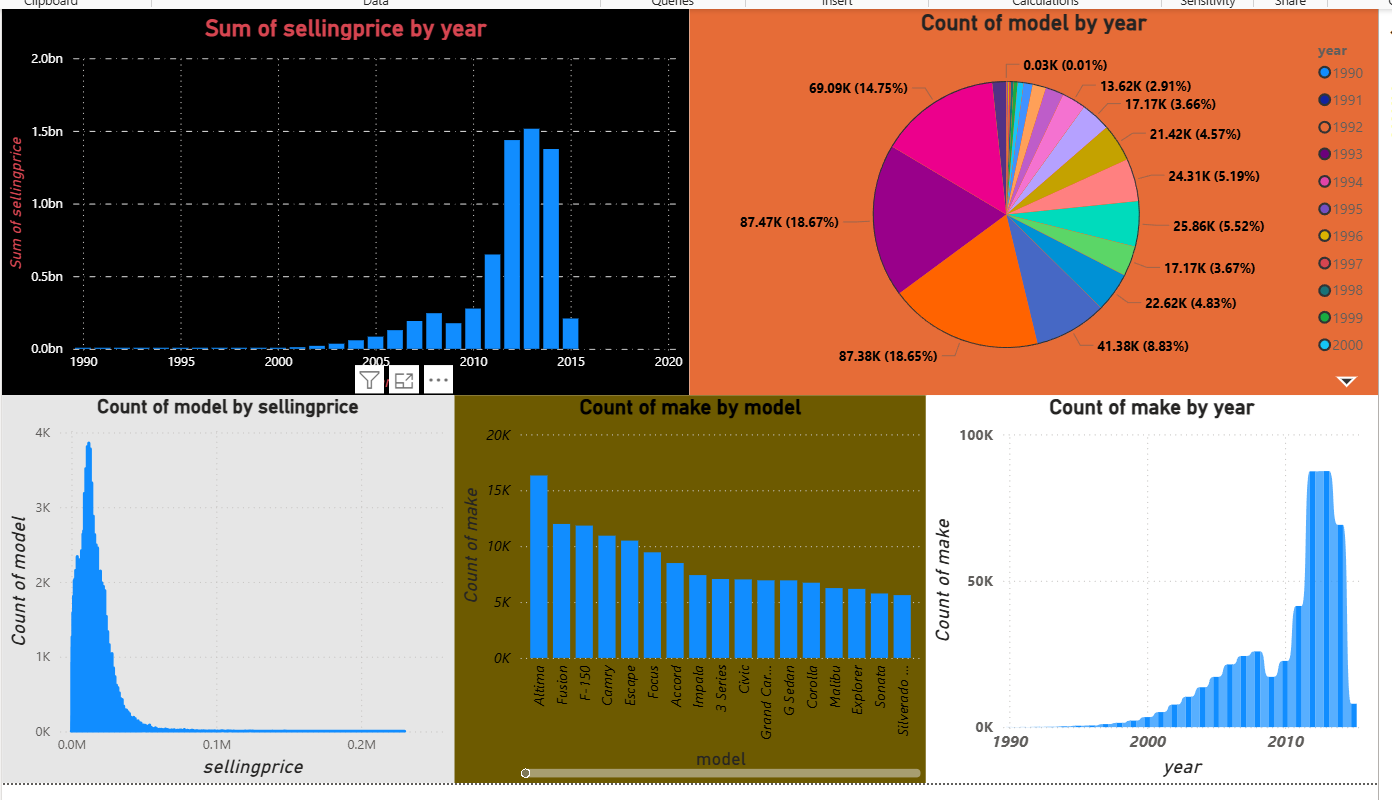

Layout of this report page (visuals, bound fields, positions):
{"tool":"powerbi","page":{"name":"Page 1","canvas":[1280,720],"ordinal":0},"visuals":[{"type":"columnChart","fields":{"Category":["cleaned_data.year"],"Y":["Sum(cleaned_data.sellingprice)"]},"box":[0,0,639.5,359.5],"z":0},{"type":"pieChart","fields":{"Y":["CountNonNull(cleaned_data.model)"],"Series":["cleaned_data.year"]},"box":[639.5,0,640.8,359.5],"z":1000},{"type":"lineChart","fields":{"Category":["cleaned_data.sellingprice"],"Y":["CountNonNull(cleaned_data.model)"]},"box":[0,359.5,420.7,360.7],"z":2000},{"type":"lineStackedColumnComboChart","fields":{"Category":["cleaned_data.model"],"Y":["CountNonNull(cleaned_data.make)"]},"box":[420.7,359.5,439,360.7],"z":3000},{"type":"ribbonChart","fields":{"Y":["CountNonNull(cleaned_data.make)"],"Category":["cleaned_data.year"]},"box":[859.7,359.5,420.7,360.7],"z":4000}]}

Visuals, with their boxes in screenshot pixels (x1, y1, x2, y2):
columnChart - cleaned_data.year x Sum(cleaned_data.sellingprice): {"x1": 0, "y1": 7, "x2": 686, "y2": 393}
pieChart - CountNonNull(cleaned_data.model) x cleaned_data.year: {"x1": 686, "y1": 7, "x2": 1373, "y2": 393}
lineChart - cleaned_data.sellingprice x CountNonNull(cleaned_data.model): {"x1": 0, "y1": 393, "x2": 451, "y2": 780}
lineStackedColumnComboChart - cleaned_data.model x CountNonNull(cleaned_data.make): {"x1": 451, "y1": 393, "x2": 922, "y2": 780}
ribbonChart - CountNonNull(cleaned_data.make) x cleaned_data.year: {"x1": 922, "y1": 393, "x2": 1373, "y2": 780}
